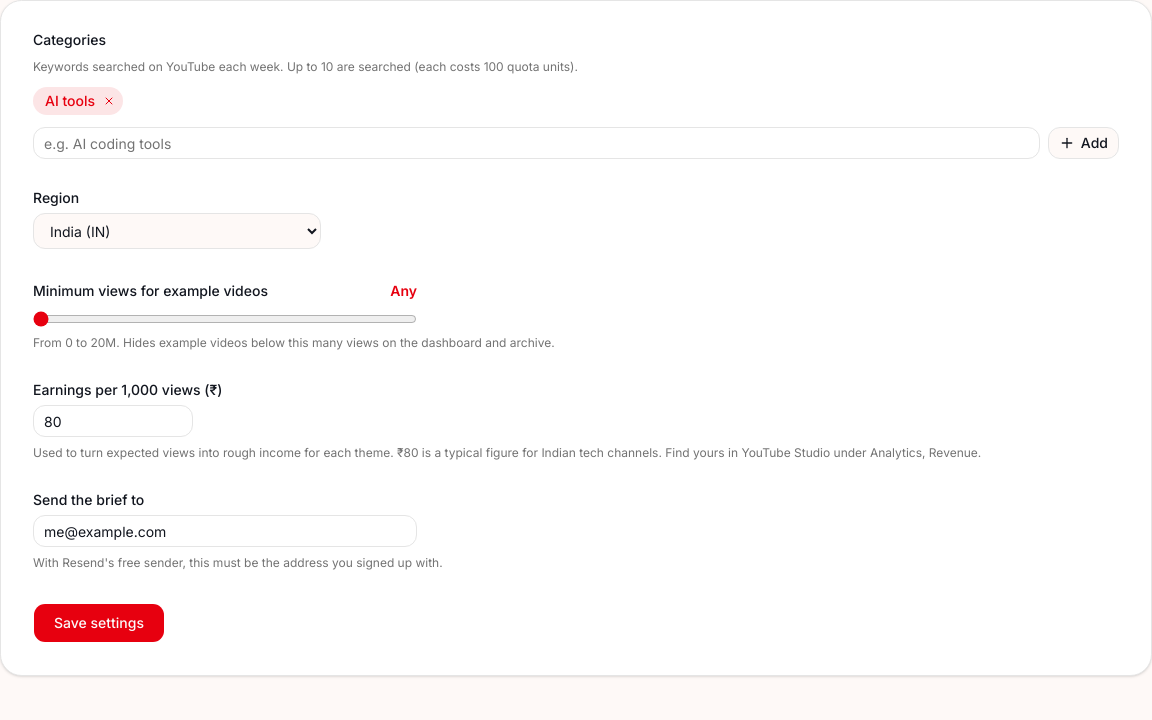
Test: SettingsForm saving › rejects an earnings figure outside 10 to 500 and does not save
Replace the text in the number field labelled "Earnings per 1,000 views (₹)" with "5000". click: (113, 421)
box: [33,405,193,437]
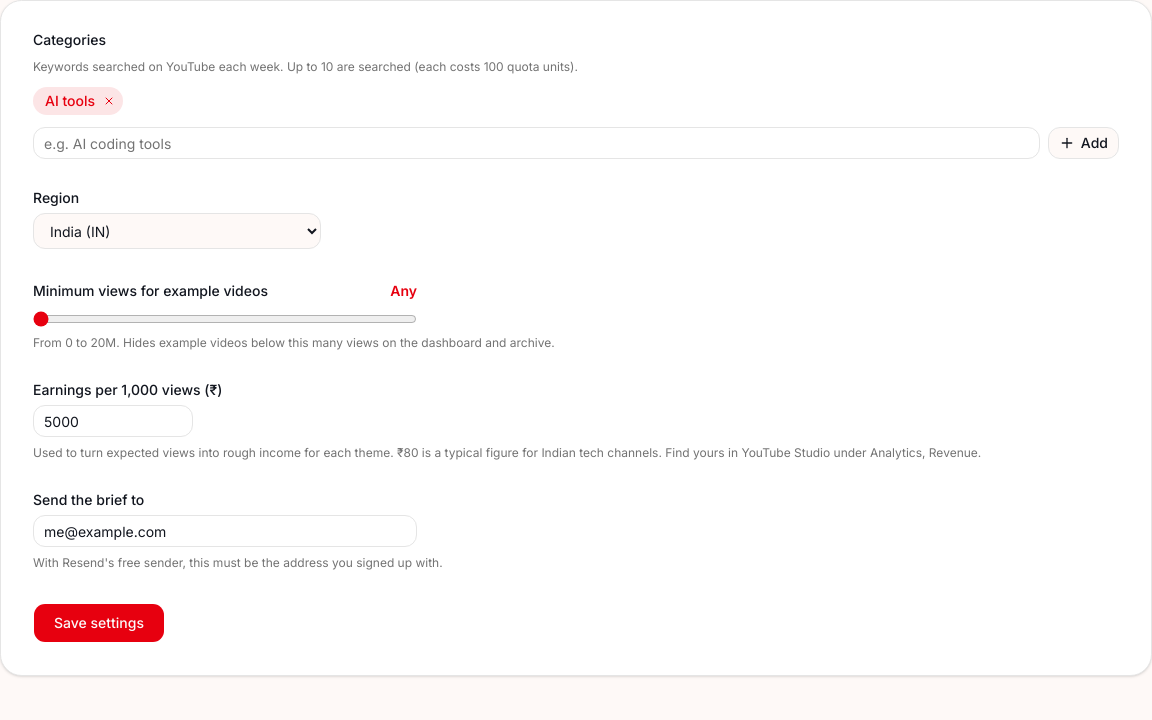
Click the button "Save settings". click: (99, 623)
box: [33,603,165,643]
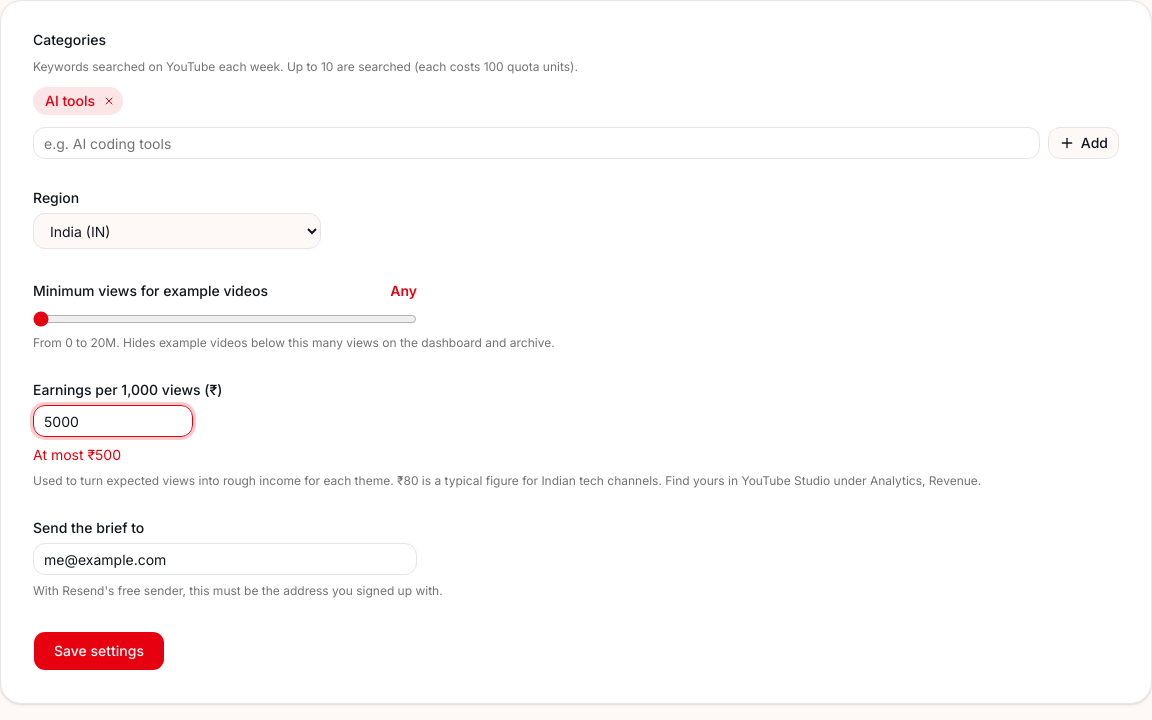
Expected: the message shows "At most", [33,446,121,463]
